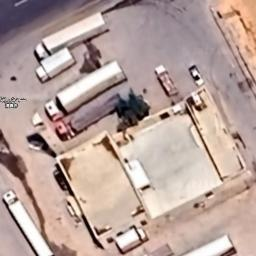SUV: (188, 64, 207, 87)
truck: (44, 60, 134, 122), (30, 12, 112, 60), (0, 187, 57, 256), (176, 229, 237, 256), (112, 225, 157, 254)
van: (34, 44, 76, 86), (154, 63, 180, 98)
